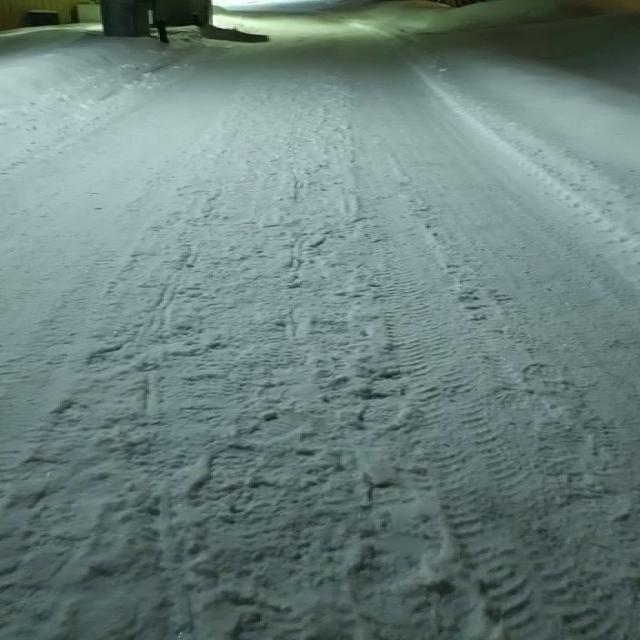path: (0, 0, 640, 640)
